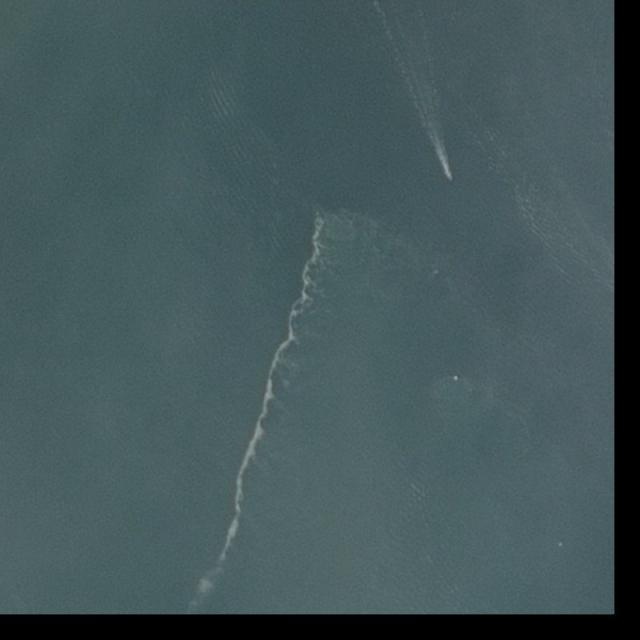ship: (445, 172, 453, 182)
